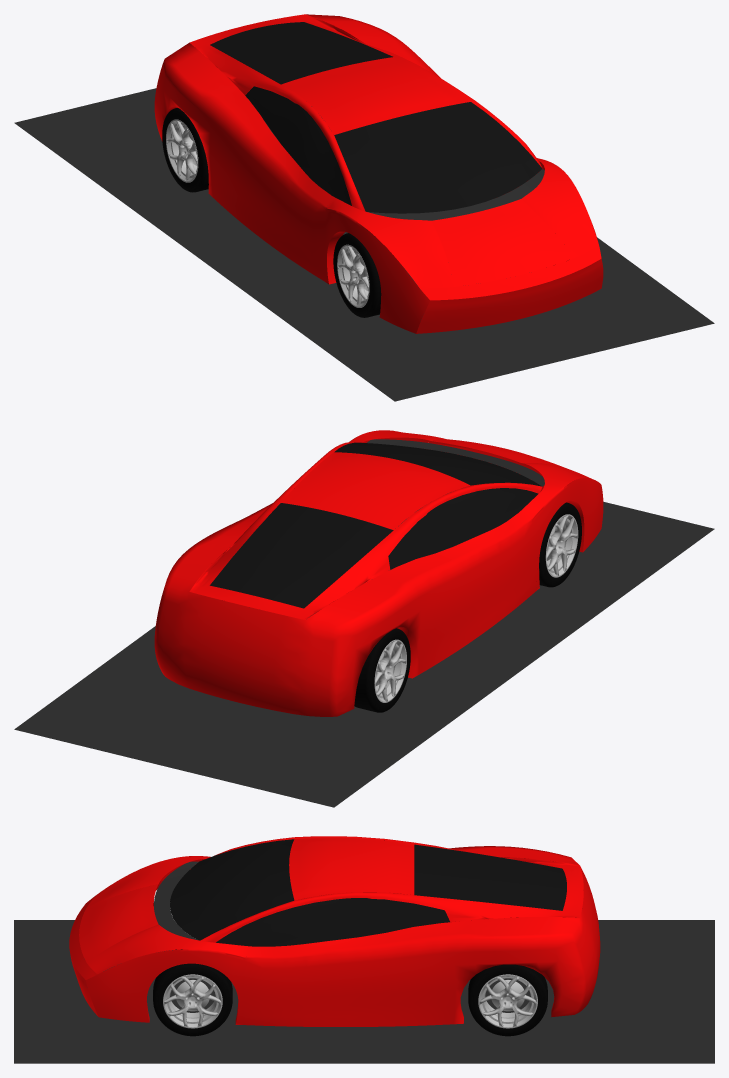
Rendered from auto.gltf.
3 renders of one model, top to bottom at view 1: azimuth 30°, elevation 25°; view 2: azimuth 150°, elevation 25°; view 3: azimuth 270°, elevation 25°, orthographic. The views are drawn at different scales.
Visible parts, largest first — view 1: Plane, object_32, object_20, object_22, object_25, object_21, object_29, object_33, object_17.001, object_28, object_23, object_24 (+8 smaller); view 2: Plane, object_32, object_21, object_22, object_33, object_17.001, object_20, object_28, object_7.001, object_19, object_3.001, object_1.001 (+5 smaller); view 3: Plane, object_32, object_20, object_21, object_18, object_22, object_27, object_33, object_25, object_14.001, object_10.001, object_24 (+7 smaller).
Boxes of the visible parts, box(x1,y1,x2,y2) form: Plane: box(14, 88, 714, 401); object_32: box(154, 14, 517, 281); object_20: box(334, 102, 542, 213); object_22: box(281, 57, 470, 134); object_25: box(431, 199, 575, 286); object_21: box(210, 22, 392, 84); object_29: box(416, 259, 603, 333); object_33: box(189, 14, 542, 211); object_17.001: box(245, 86, 351, 205); object_28: box(324, 195, 429, 333); object_23: box(357, 212, 454, 288); object_24: box(522, 168, 598, 256); Plane: box(14, 492, 714, 807); object_32: box(154, 503, 537, 716); object_21: box(210, 503, 393, 608); object_22: box(281, 452, 470, 530); object_33: box(189, 442, 542, 619); object_17.001: box(388, 488, 538, 569); object_20: box(334, 442, 541, 486); object_28: box(519, 477, 603, 590); object_7.001: box(354, 628, 410, 712); object_19: box(367, 439, 544, 486); object_3.001: box(539, 502, 581, 587); object_1.001: box(546, 515, 577, 576); Plane: box(14, 920, 714, 1063); object_32: box(242, 846, 600, 1026); object_20: box(170, 839, 294, 940); object_21: box(414, 844, 566, 910); object_18: box(216, 898, 449, 946); object_22: box(289, 837, 414, 900); object_27: box(86, 940, 252, 1024); object_33: box(200, 836, 583, 942); object_25: box(79, 884, 158, 962); object_14.001: box(153, 963, 232, 1036); object_10.001: box(468, 964, 547, 1036); object_24: box(86, 924, 195, 974).
Size of the model in its own units: 0.8788 by 0.3731 by 1.81.
